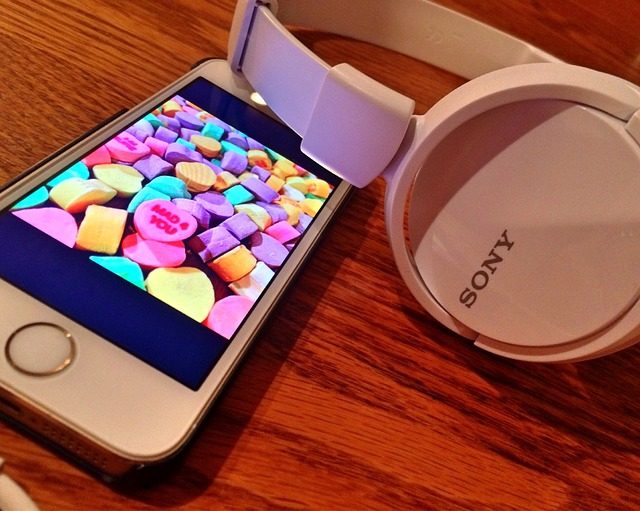headphones: (228, 1, 640, 364)
